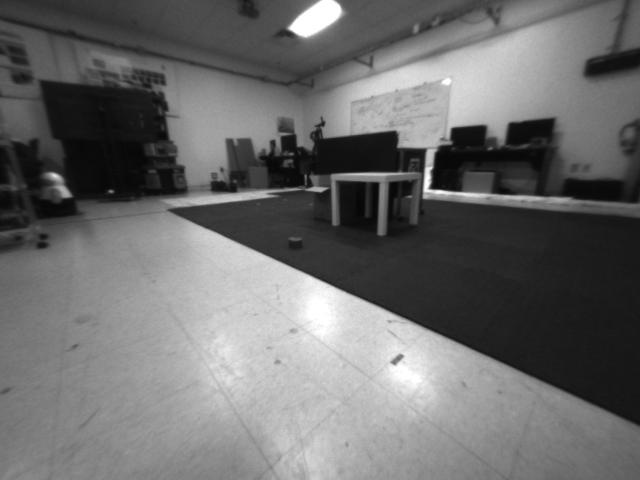dogtoy: (276, 232, 315, 253)
